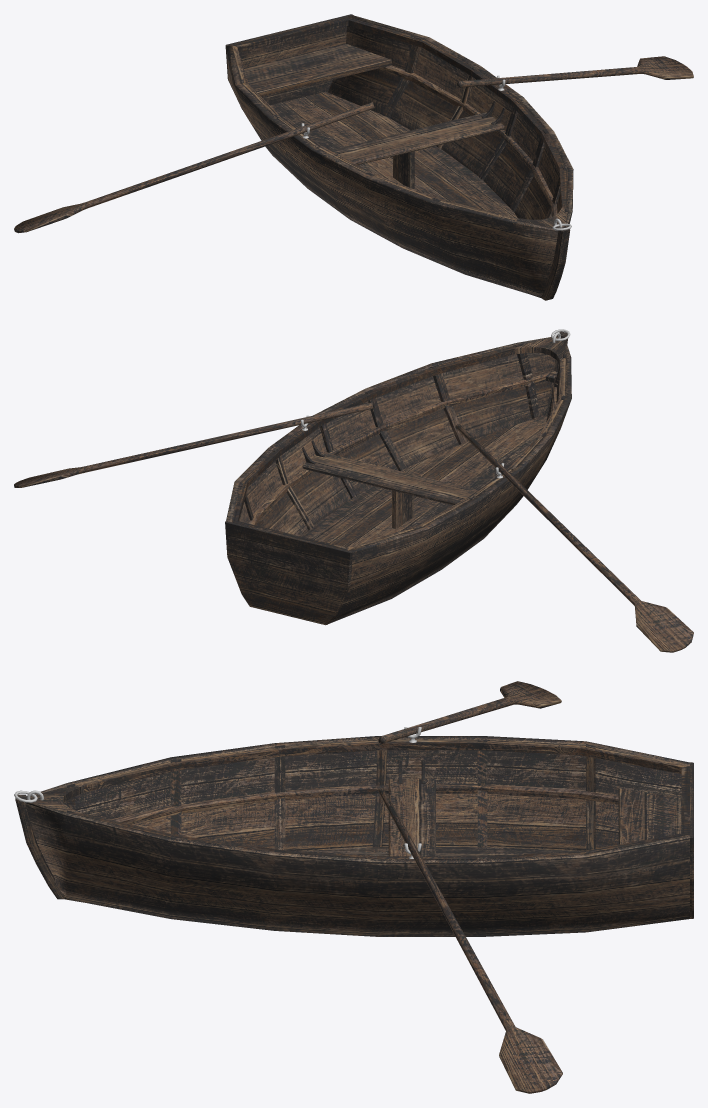
File: Boat_with_paddles2.fbx
3 views of the same model, one above another, from view 1: azimuth 30°, elevation 25°; view 2: azimuth 150°, elevation 25°; view 3: azimuth 270°, elevation 25° (orthographic). The views are drawn at different scales.
Visible parts, largest first — view 1: Torus.001, Cylinder.001, Cylinder; view 2: Torus.001, Cylinder.001, Cylinder; view 3: Torus.001, Cylinder, Cylinder.001.
Part boxes in pixels (<box>): Torus.001: <box>225,14,573,300</box>; Cylinder.001: <box>14,102,374,233</box>; Cylinder: <box>456,56,693,87</box>; Torus.001: <box>225,329,571,625</box>; Cylinder.001: <box>455,424,693,652</box>; Cylinder: <box>14,402,374,487</box>; Torus.001: <box>14,727,693,936</box>; Cylinder: <box>378,787,562,1093</box>; Cylinder.001: <box>378,681,561,743</box>.
Bounding box in the file's own units: 1032 × 162 × 738.
